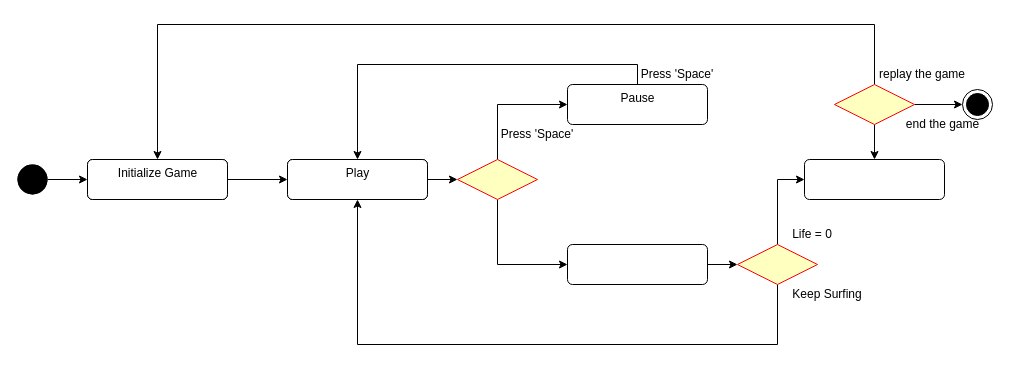
This 1010x370 diagram has some shape labels left out. The shapes that lost their labels are listed below. From the top down, each one's box as (x1, y1, x2, y2) in pixels, then its label:
(804, 158, 944, 200): GameOver
(566, 244, 708, 284): Generate GameObjects
